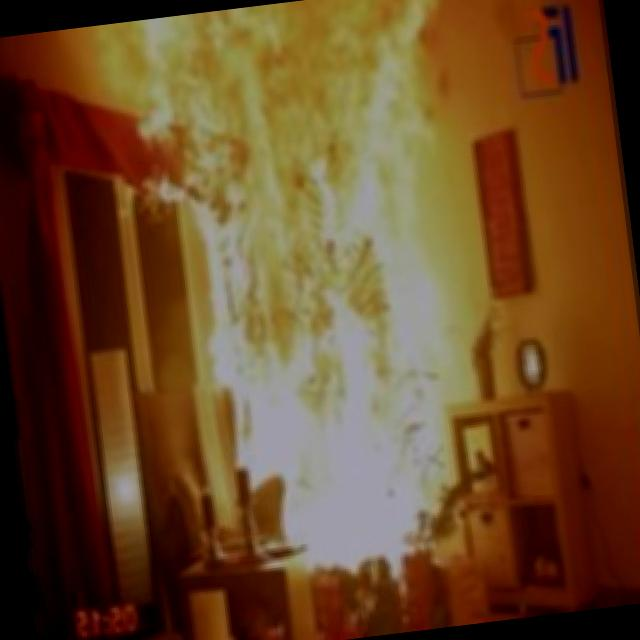fire: (114, 0, 537, 598)
